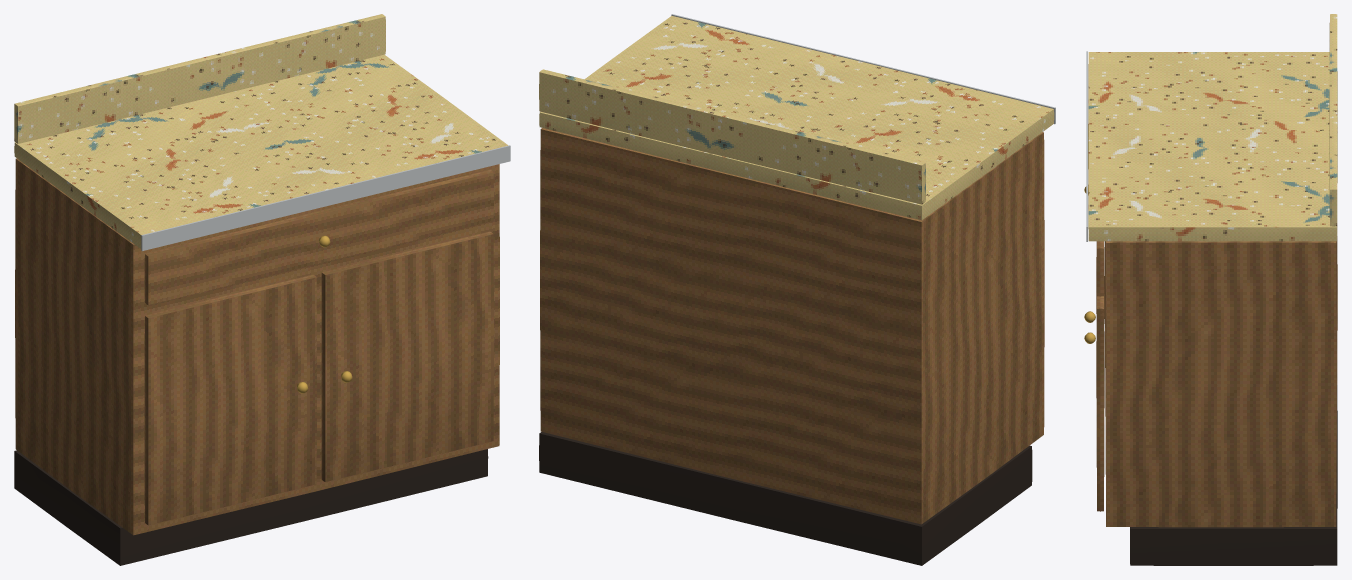
File: counter_module.glb
The picture shows the model from 3 angles, left to right: view 1: azimuth 30°, elevation 25°; view 2: azimuth 150°, elevation 25°; view 3: azimuth 270°, elevation 25°; orthographic projection. The views are drawn at different scales.
Visible parts, largest first — view 1: cabinet, countertop, door_R, door_L, drawer, backsplash, toe_kick, edge_strip; view 2: cabinet, countertop, toe_kick, backsplash, edge_strip; view 3: cabinet, countertop, toe_kick, door_R, backsplash, drawer, edge_strip.
Boxes of the visible parts, x1,y1,x2,y2 form: cabinet: (15, 158, 499, 535); countertop: (14, 54, 508, 248); door_R: (321, 231, 493, 481); door_L: (144, 275, 316, 525); drawer: (144, 170, 493, 305); backsplash: (14, 14, 385, 143); toe_kick: (14, 449, 488, 565); edge_strip: (141, 145, 510, 251); cabinet: (540, 128, 1044, 524); countertop: (539, 16, 1054, 220); toe_kick: (539, 432, 1032, 565); backsplash: (539, 69, 925, 204); edge_strip: (671, 14, 1055, 124); cabinet: (1104, 236, 1337, 527); countertop: (1088, 52, 1337, 241); toe_kick: (1130, 385, 1337, 565); door_R: (1096, 272, 1104, 511); backsplash: (1329, 14, 1337, 226); drawer: (1096, 241, 1104, 296); edge_strip: (1086, 51, 1087, 241).
Bounding box in the file's own units: 1 × 1 × 0.609.
Materials: 3 (2 with a texture image).
